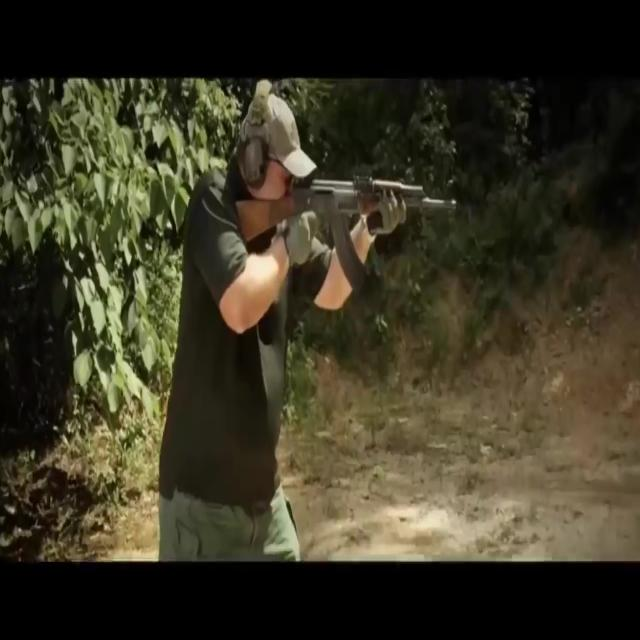Weapon: (227, 155, 474, 305)
